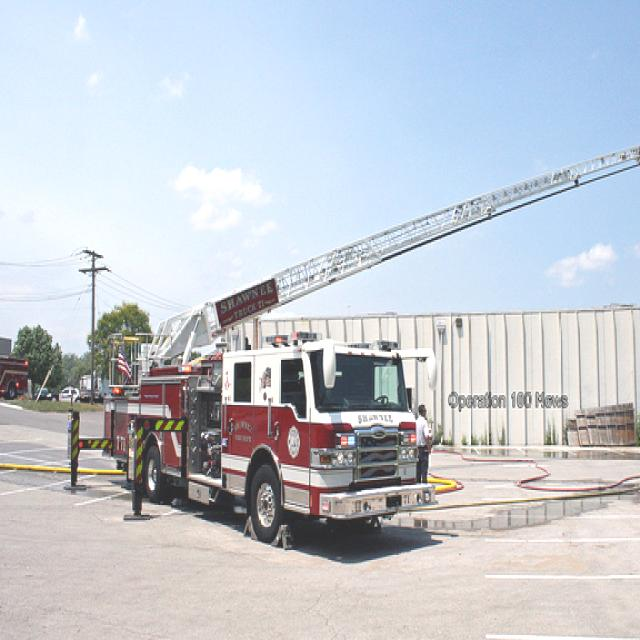Vehicle: (100, 332, 440, 540), (46, 387, 82, 403), (80, 391, 91, 402)
